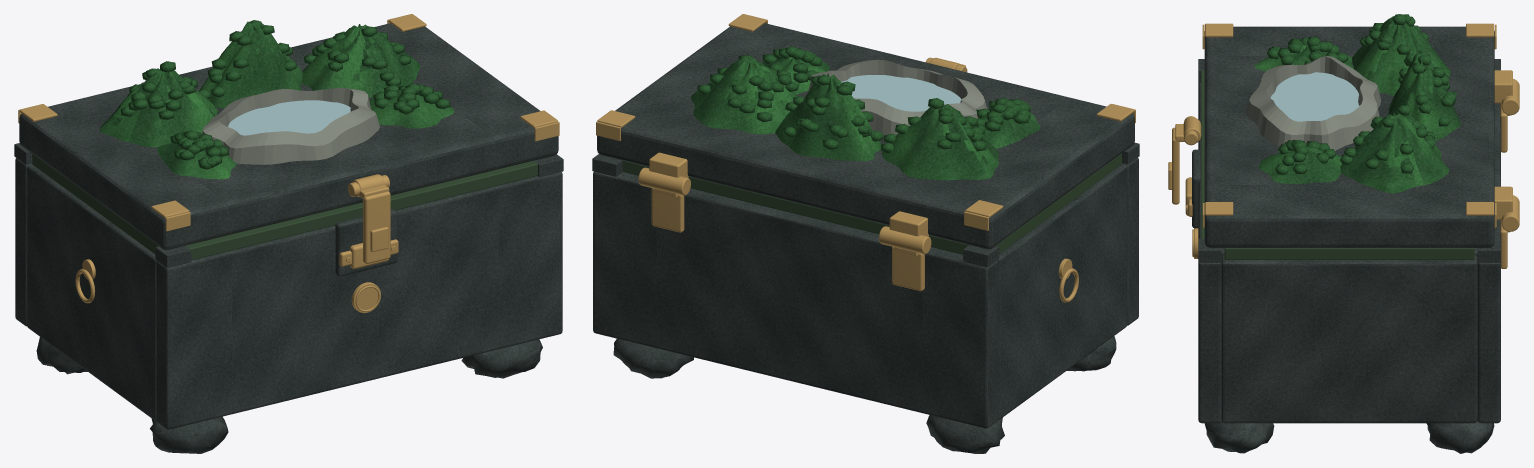
File: dominica.glb
3 views of the same model, side by side, from view 1: azimuth 30°, elevation 25°; view 2: azimuth 150°, elevation 25°; view 3: azimuth 270°, elevation 25° (orthographic).
Visible parts, largest first — view 1: Volcanic body / long, Lid / polished slab, Volcanic body / side, Lake / rocky rim, Mineral seam / long, Rainforest / ridge 0, Rainforest / ridge 2, Rainforest / ridge 1, Lake / geothermal water, Volcanic foot, Volcanic foot.002, Volcanic body / long.001 (+8 smaller); view 2: Volcanic body / long.001, Lid / polished slab, Volcanic body / side, Rainforest / ridge 0, Rainforest / ridge 1, Rainforest / ridge 2, Lake / rocky rim, Mineral seam / long.001, Lake / geothermal water, Volcanic foot.001, Volcanic body / long, Volcanic foot.003 (+12 smaller); view 3: Volcanic body / side.001, Lid / polished slab, Lake / rocky rim, Rainforest / ridge 2, Volcanic body / long.001, Volcanic body / long, Lake / geothermal water, Rainforest / ridge 0, Mineral seam / side.001, Rainforest / ridge 1, Rainforest / ridge 4, Volcanic foot.002 (+15 smaller).
Part boxes in pixels (x1,y1,x2,y2): Volcanic body / long: (156, 172, 562, 429); Lid / polished slab: (19, 23, 558, 249); Volcanic body / side: (27, 164, 156, 420); Lake / rocky rim: (202, 88, 379, 164); Mineral seam / long: (186, 160, 537, 260); Rainforest / ridge 0: (99, 68, 217, 147); Rainforest / ridge 2: (301, 24, 420, 97); Rainforest / ridge 1: (199, 20, 303, 108); Lake / geothermal water: (228, 100, 350, 135); Volcanic foot: (150, 416, 228, 453); Volcanic foot.002: (461, 339, 542, 378); Volcanic body / long.001: (15, 158, 32, 326); Volcanic body / long.001: (593, 171, 998, 428); Lid / polished slab: (597, 23, 1134, 249); Volcanic body / side: (997, 164, 1127, 419); Rainforest / ridge 0: (882, 104, 998, 180); Rainforest / ridge 1: (775, 73, 881, 160); Rainforest / ridge 2: (691, 57, 797, 134); Lake / rocky rim: (808, 59, 987, 135); Mineral seam / long.001: (622, 160, 968, 254); Lake / geothermal water: (841, 75, 961, 111); Volcanic foot.001: (926, 415, 1004, 453); Volcanic body / long: (1122, 157, 1138, 325); Volcanic foot.003: (613, 338, 693, 378); Volcanic body / side.001: (1221, 255, 1477, 423); Lid / polished slab: (1204, 26, 1494, 247); Lake / rocky rim: (1245, 56, 1381, 150); Rainforest / ridge 2: (1340, 112, 1449, 193); Volcanic body / long.001: (1477, 103, 1500, 423); Volcanic body / long: (1198, 82, 1221, 423); Lake / geothermal water: (1270, 72, 1359, 121); Rainforest / ridge 0: (1352, 16, 1450, 95); Mineral seam / side.001: (1224, 248, 1474, 259); Rainforest / ridge 1: (1388, 51, 1460, 141); Rainforest / ridge 4: (1258, 146, 1341, 184); Volcanic foot.002: (1204, 421, 1274, 453).
Bounding box in the file's own units: 3.79 × 2.9 × 2.88.
Materials: 6 (2 with a texture image).
